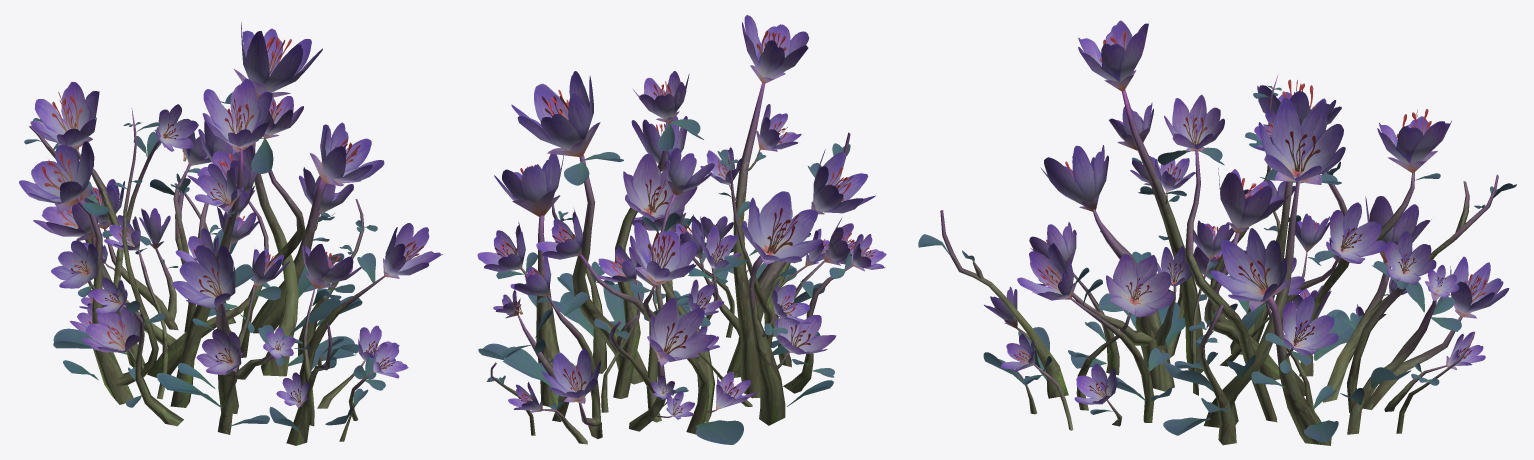
The model's file is Homeworld_Exterior_Dq_Plant_Flower_Oasis_01.fbx.
3 renders of one model, left to right at view 1: azimuth 30°, elevation 25°; view 2: azimuth 150°, elevation 25°; view 3: azimuth 270°, elevation 25°, orthographic. The views are drawn at different scales.
Visible parts, largest first — view 1: Homeworld_Exterior_Dq_Plant_Flower_Oasis_02_Lod0, Homeworld_Exterior_Dq_Plant_Flower_Oasis_01_Lod0; view 2: Homeworld_Exterior_Dq_Plant_Flower_Oasis_02_Lod0, Homeworld_Exterior_Dq_Plant_Flower_Oasis_01_Lod0; view 3: Homeworld_Exterior_Dq_Plant_Flower_Oasis_02_Lod0, Homeworld_Exterior_Dq_Plant_Flower_Oasis_01_Lod0.
Boxes of the visible parts, <box> form: Homeworld_Exterior_Dq_Plant_Flower_Oasis_02_Lod0: <box>19,22,442,432</box>; Homeworld_Exterior_Dq_Plant_Flower_Oasis_01_Lod0: <box>29,108,384,445</box>; Homeworld_Exterior_Dq_Plant_Flower_Oasis_02_Lod0: <box>477,15,886,444</box>; Homeworld_Exterior_Dq_Plant_Flower_Oasis_01_Lod0: <box>490,83,852,444</box>; Homeworld_Exterior_Dq_Plant_Flower_Oasis_02_Lod0: <box>918,20,1516,442</box>; Homeworld_Exterior_Dq_Plant_Flower_Oasis_01_Lod0: <box>940,75,1498,445</box>.
Size of the model in its own units: 1.15 by 1.09 by 1.65.
2 materials, 2 textured.
